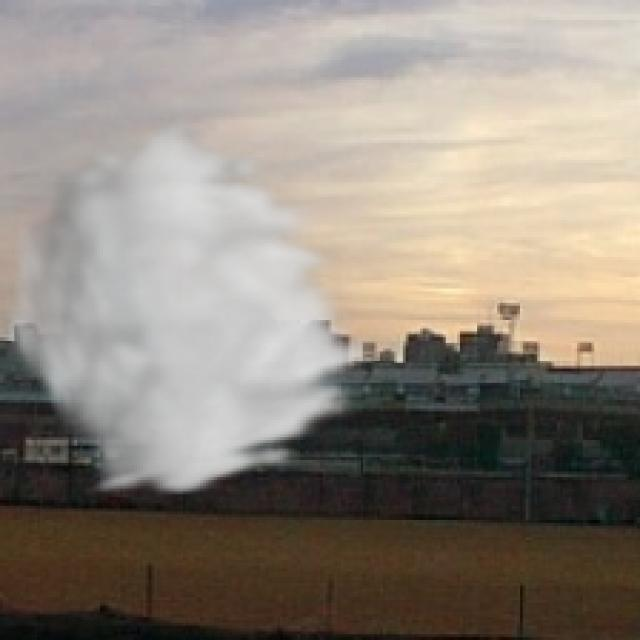smoke: (0, 114, 386, 500)
